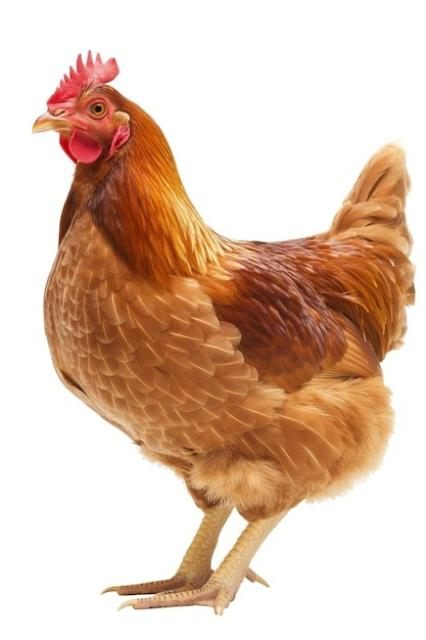Chicken: (28, 49, 418, 613)
